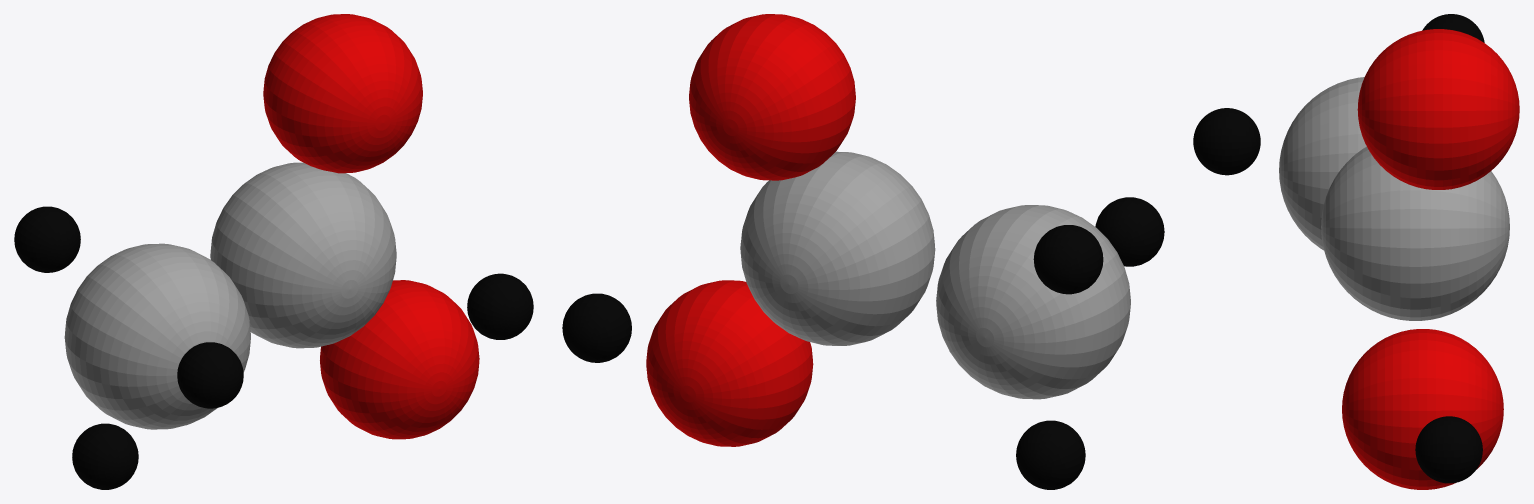
File: Acetic Acid.glb
The picture shows the model from 3 angles, left to right: view 1: azimuth 30°, elevation 25°; view 2: azimuth 150°, elevation 25°; view 3: azimuth 270°, elevation 25°; orthographic projection. The views are drawn at different scales.
Parts seen in each view (by area): view 1: world; view 2: world; view 3: world.
Part boxes in pixels (x1=…): world: x1=14, y1=14, x2=533, y2=489; world: x1=562, y1=14, x2=1164, y2=489; world: x1=1193, y1=14, x2=1519, y2=489.
Bounding box in the file's own units: 4.42 × 3.45 × 2.42.
